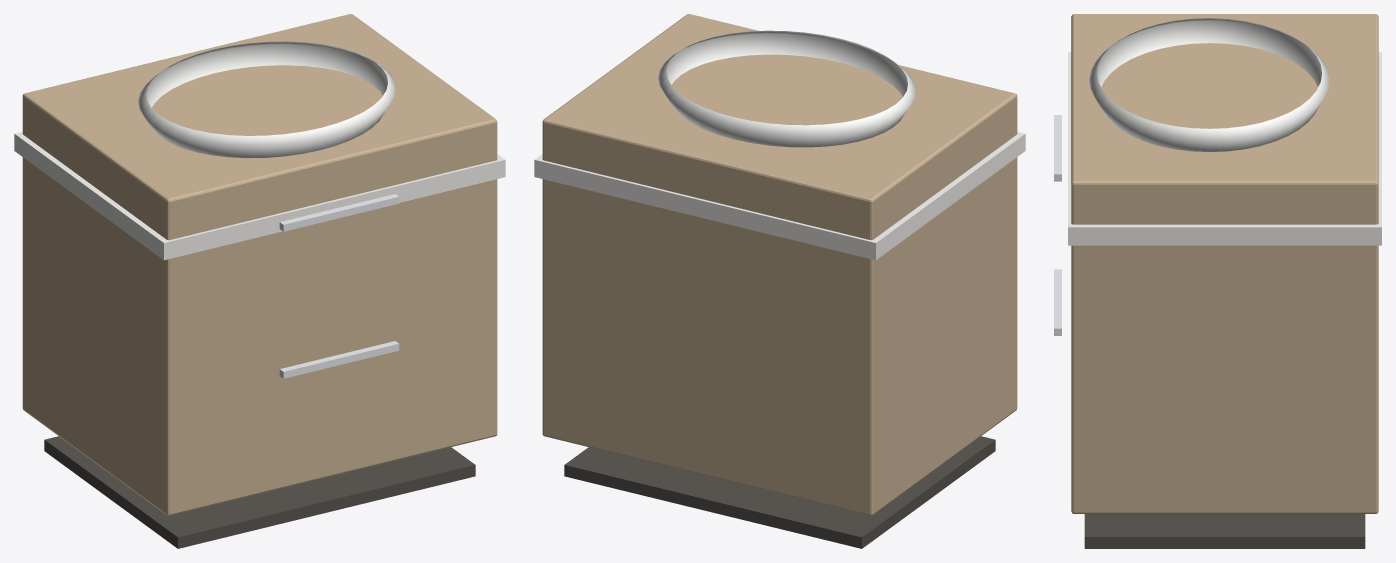
The model's file is vanity-floating-drawers.glb.
The picture shows the model from 3 angles, left to right: view 1: azimuth 30°, elevation 25°; view 2: azimuth 150°, elevation 25°; view 3: azimuth 270°, elevation 25°; orthographic projection. The views are drawn at different scales.
Visible parts, largest first — view 1: body; view 2: body; view 3: body.
Boxes of the visible parts, <box> form: body: <box>14,14,505,548</box>; body: <box>534,14,1025,548</box>; body: <box>1054,14,1381,548</box>.
Bounding box in the file's own units: 0.62 × 0.66 × 0.491.
